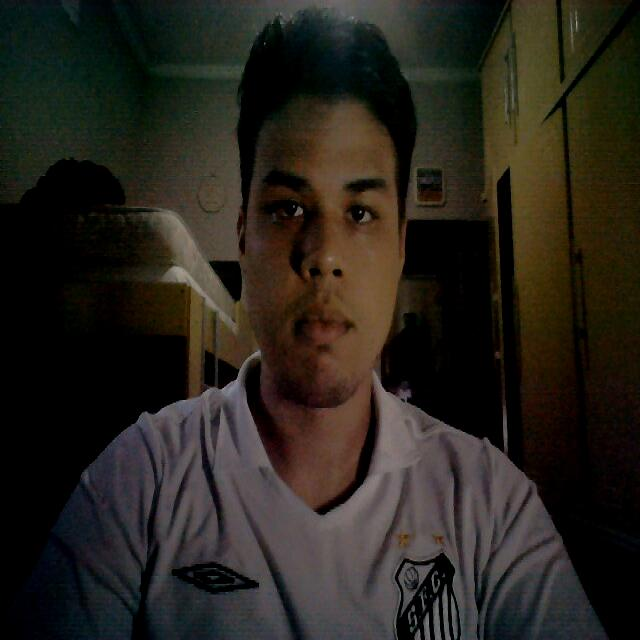acordado: (245, 92, 404, 410)
